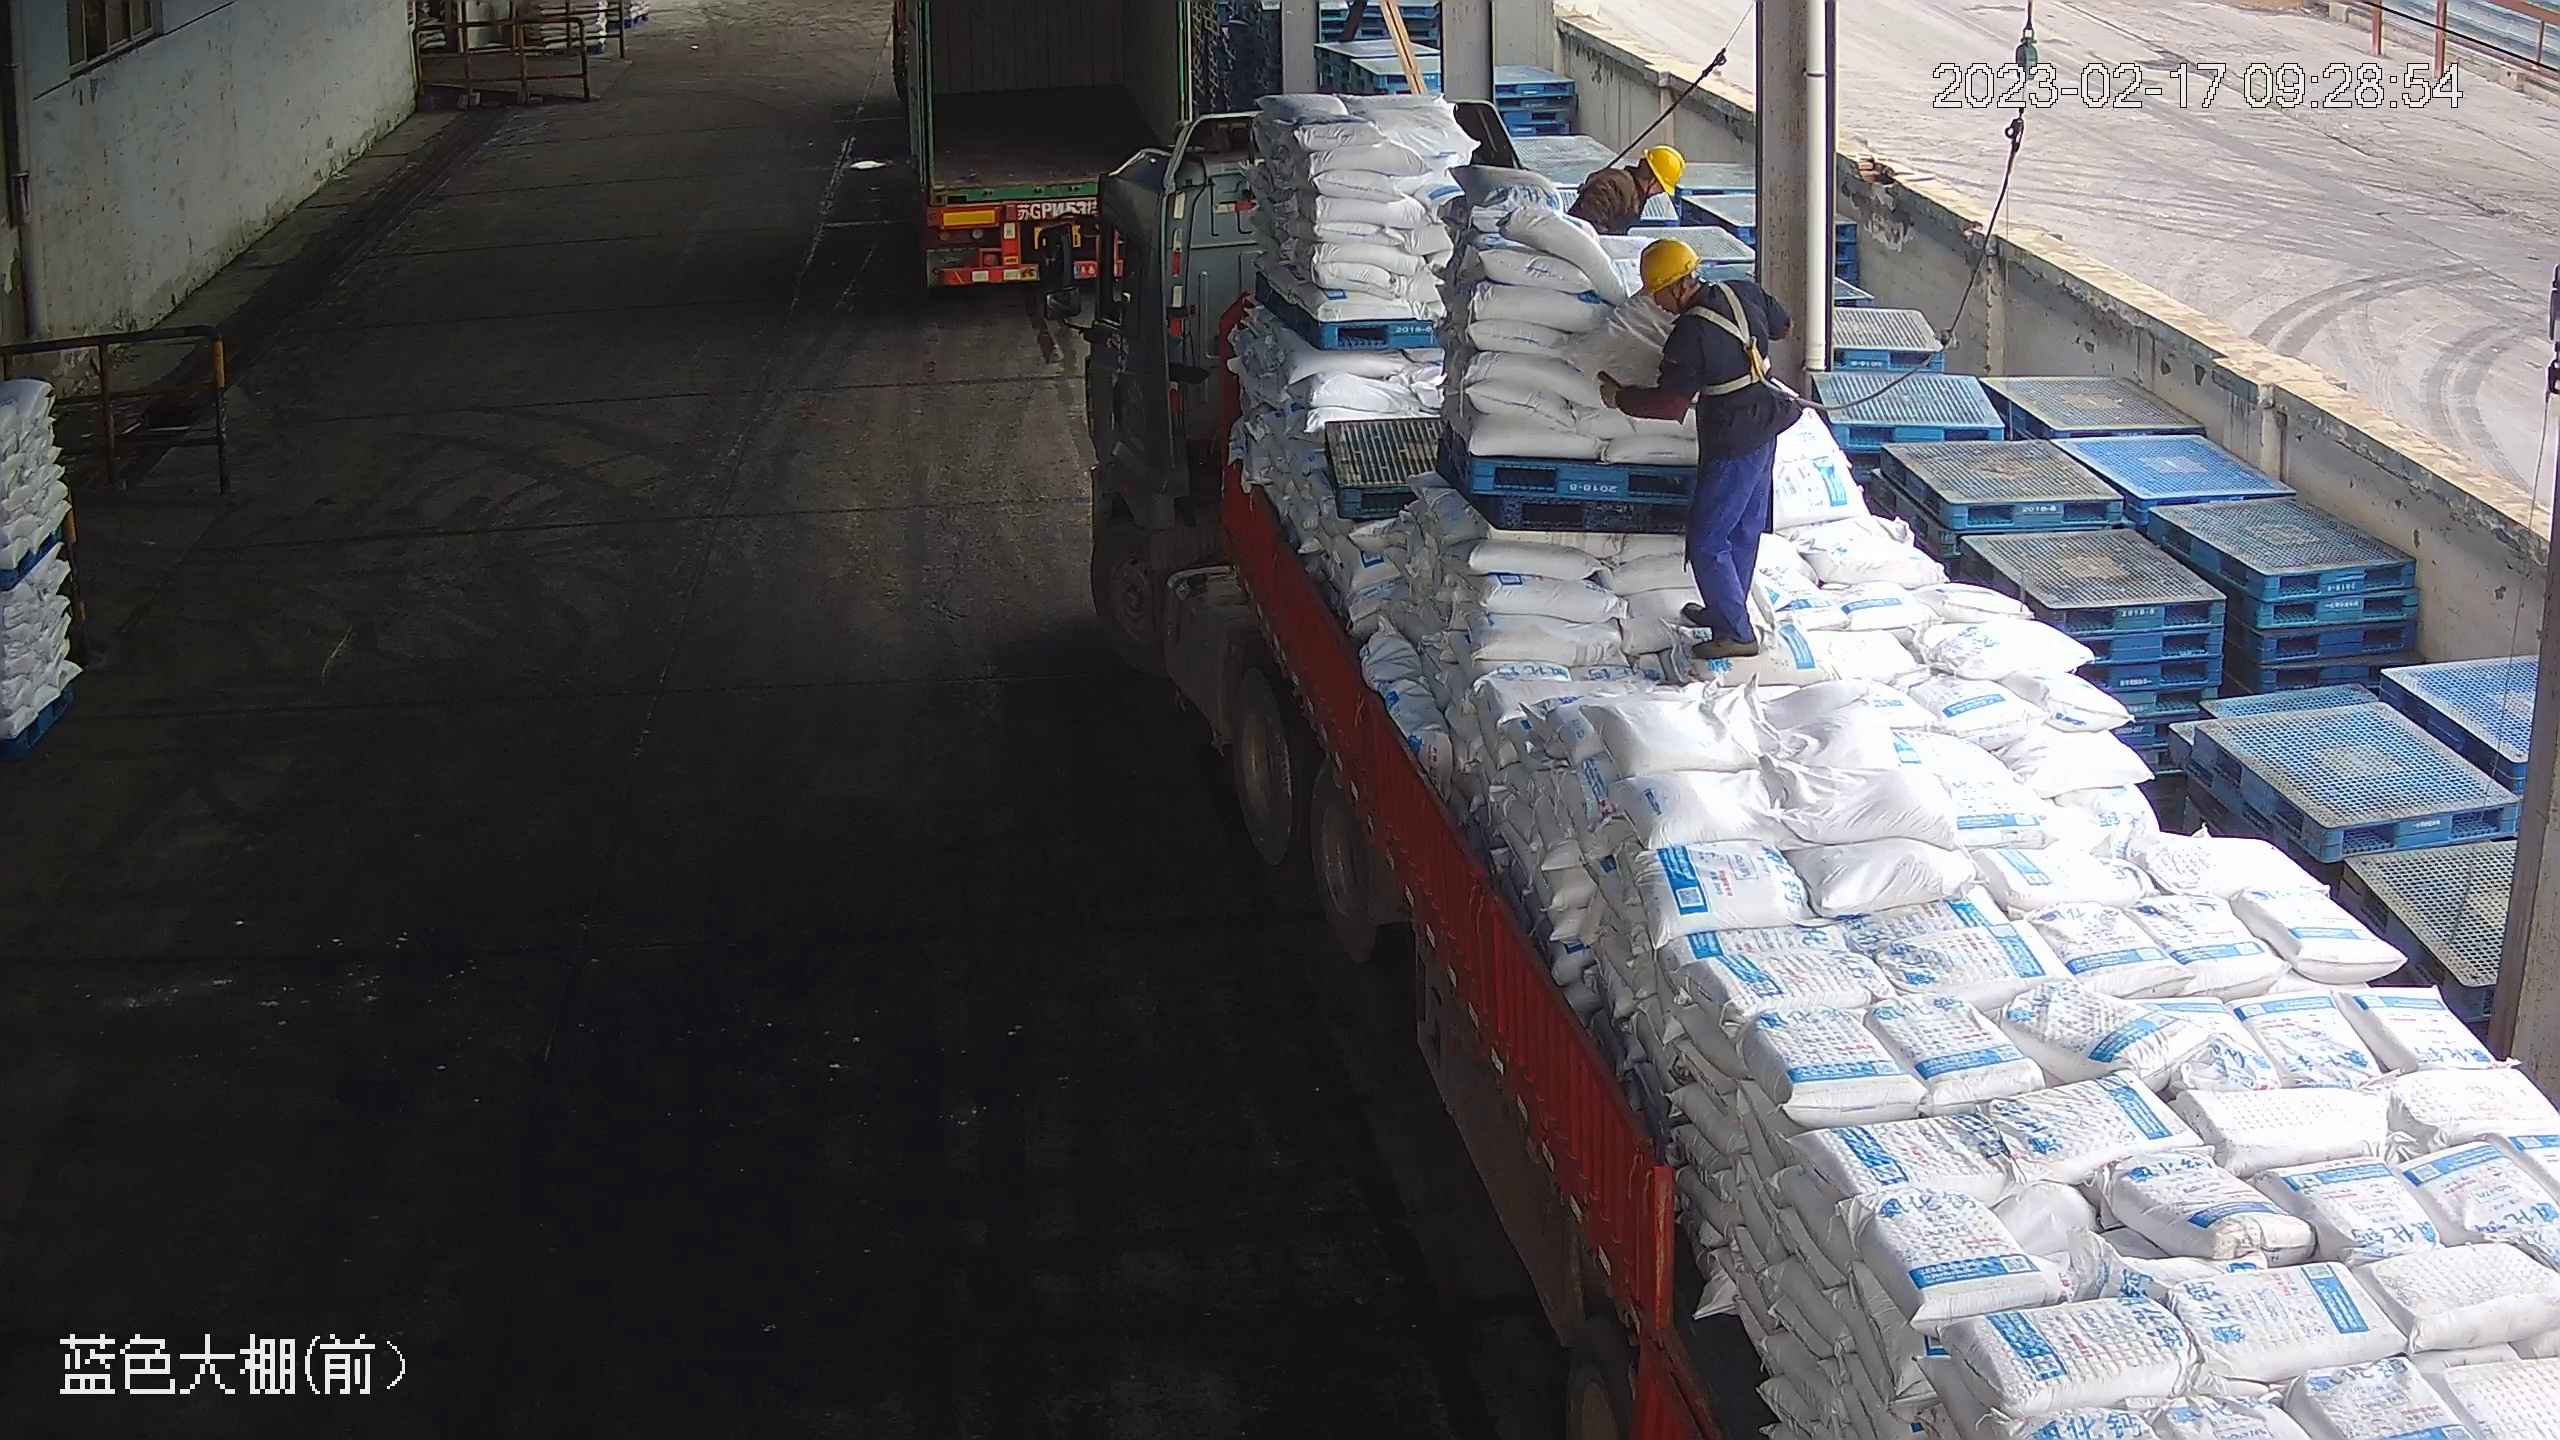belt: (1693, 279, 1793, 403)
head: (1623, 242, 1782, 364), (1581, 142, 1684, 235)
helmet: (1634, 240, 1701, 294), (1642, 144, 1684, 191)
people: (1601, 239, 1806, 659)
truck: (1034, 98, 2560, 1440), (883, 5, 1244, 306)
